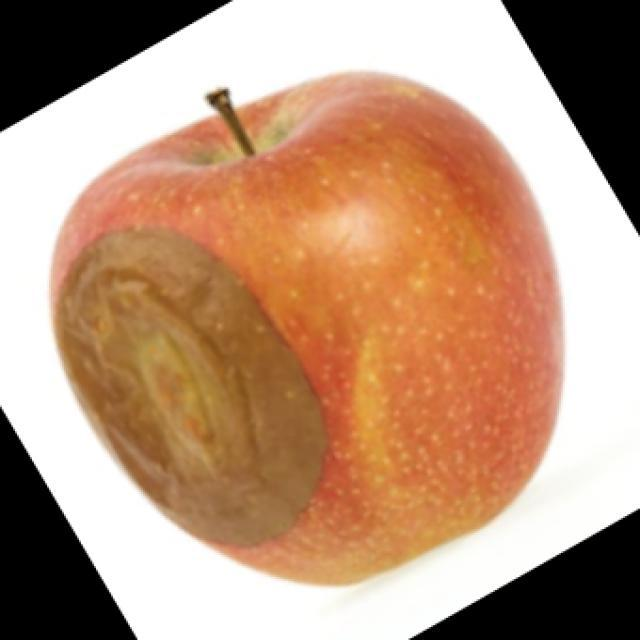Rotten: (85, 85, 567, 578)
